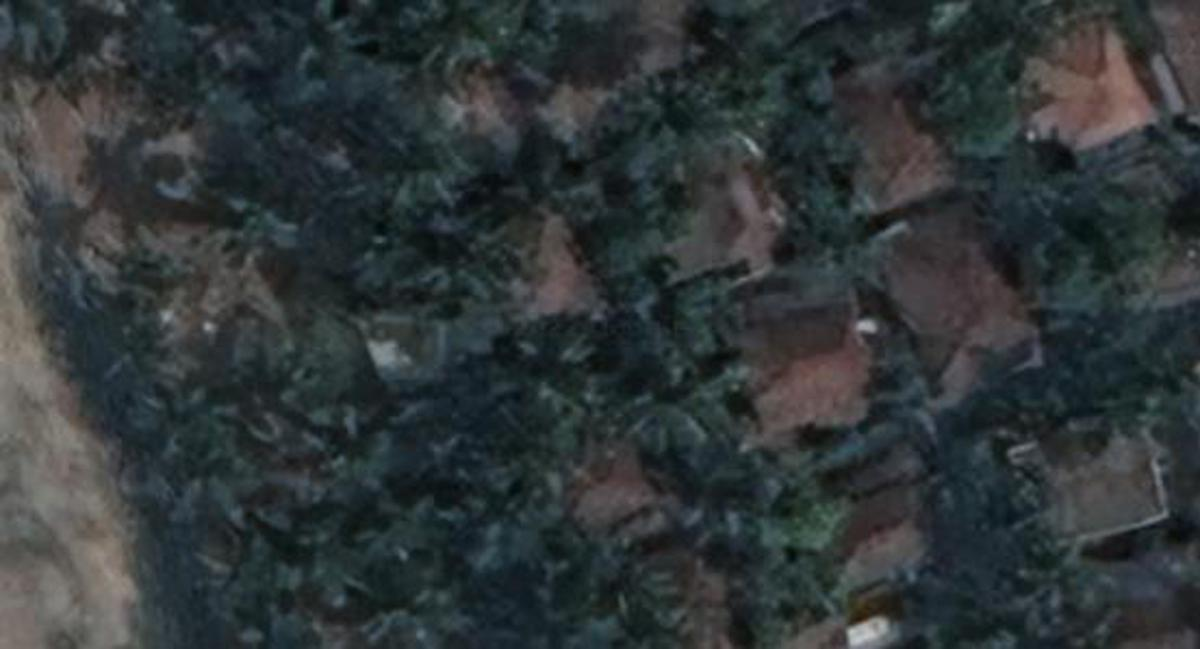coconut: (482, 443, 579, 520), (572, 478, 664, 552), (693, 419, 772, 494), (731, 374, 809, 448), (725, 255, 811, 320), (620, 534, 697, 605), (612, 389, 688, 459), (714, 508, 789, 572), (417, 419, 485, 484), (477, 525, 545, 587), (679, 290, 747, 351), (540, 389, 610, 448), (706, 562, 791, 606), (592, 348, 655, 405), (638, 325, 699, 381), (763, 452, 809, 526), (487, 397, 540, 449), (731, 332, 784, 383), (578, 555, 627, 608), (525, 569, 588, 610)
